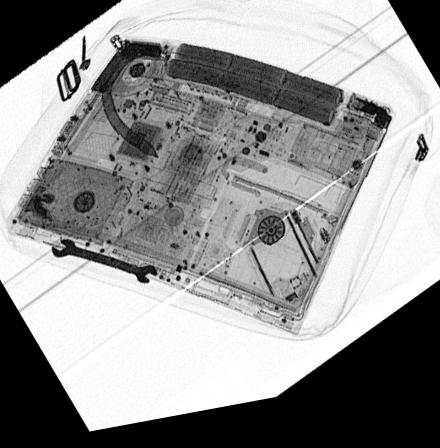Wrench: (50, 241, 162, 290)
